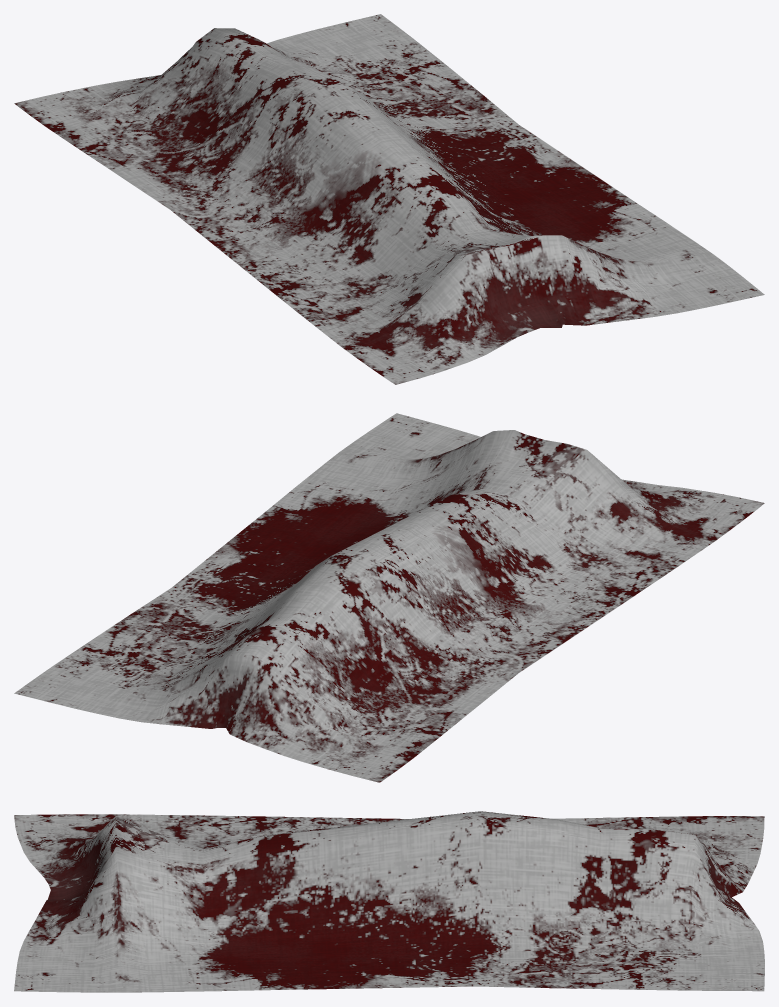
3 views of the same model, one above another, from view 1: azimuth 30°, elevation 25°; view 2: azimuth 150°, elevation 25°; view 3: azimuth 270°, elevation 25° (orthographic). The views are drawn at different scales.
Visible parts, largest first — view 1: low; view 2: low; view 3: low.
Boxes of the visible parts, x1=… form: low: x1=14, y1=14, x2=764, y2=384; low: x1=14, y1=413, x2=764, y2=782; low: x1=14, y1=811, x2=764, y2=992.
Bounding box in the file's own units: 6.32 × 1.32 × 11.24.
1 material, 1 textured.
